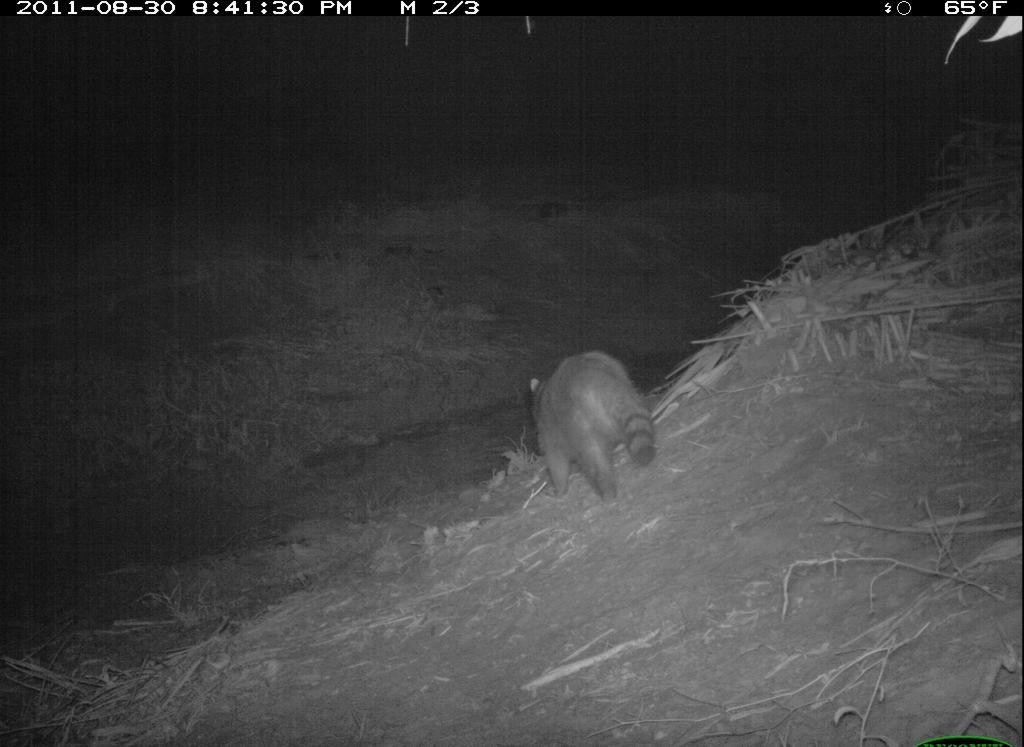raccoon: (501, 346, 690, 511)
